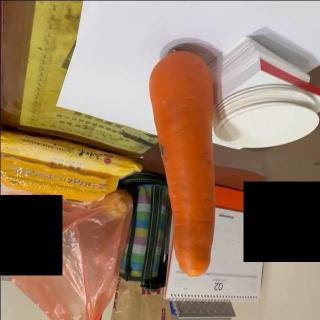carrot: (147, 49, 215, 278)
